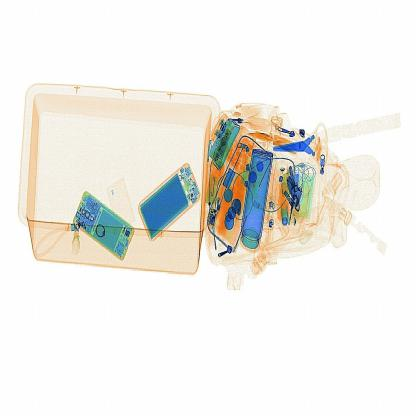gun: (267, 118, 346, 176)
